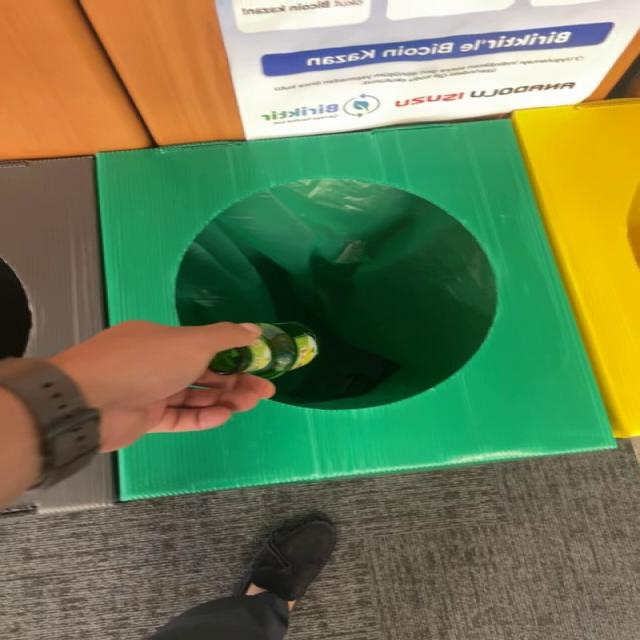glass: (208, 323, 317, 380)
